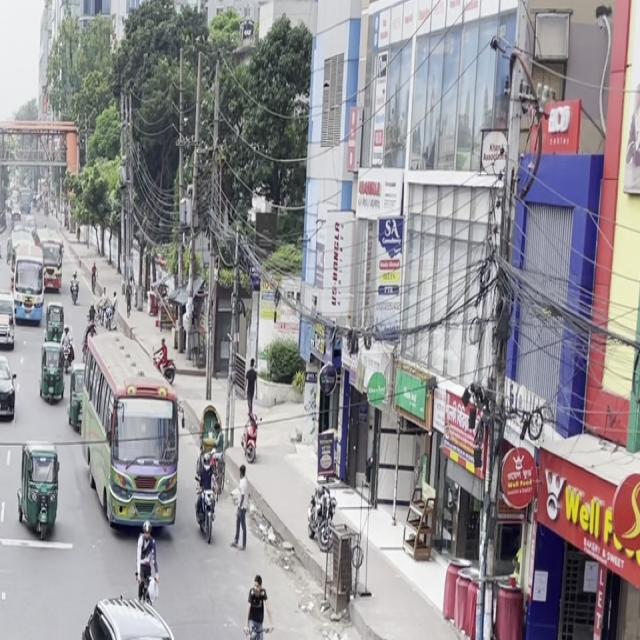bicycle: (132, 514, 162, 614), (239, 570, 277, 640)
car: (71, 590, 219, 640), (0, 352, 19, 429), (304, 632, 470, 640), (0, 305, 17, 353)
motorbike: (192, 461, 221, 548)
rickshaw: (13, 438, 65, 546), (37, 344, 65, 408)
